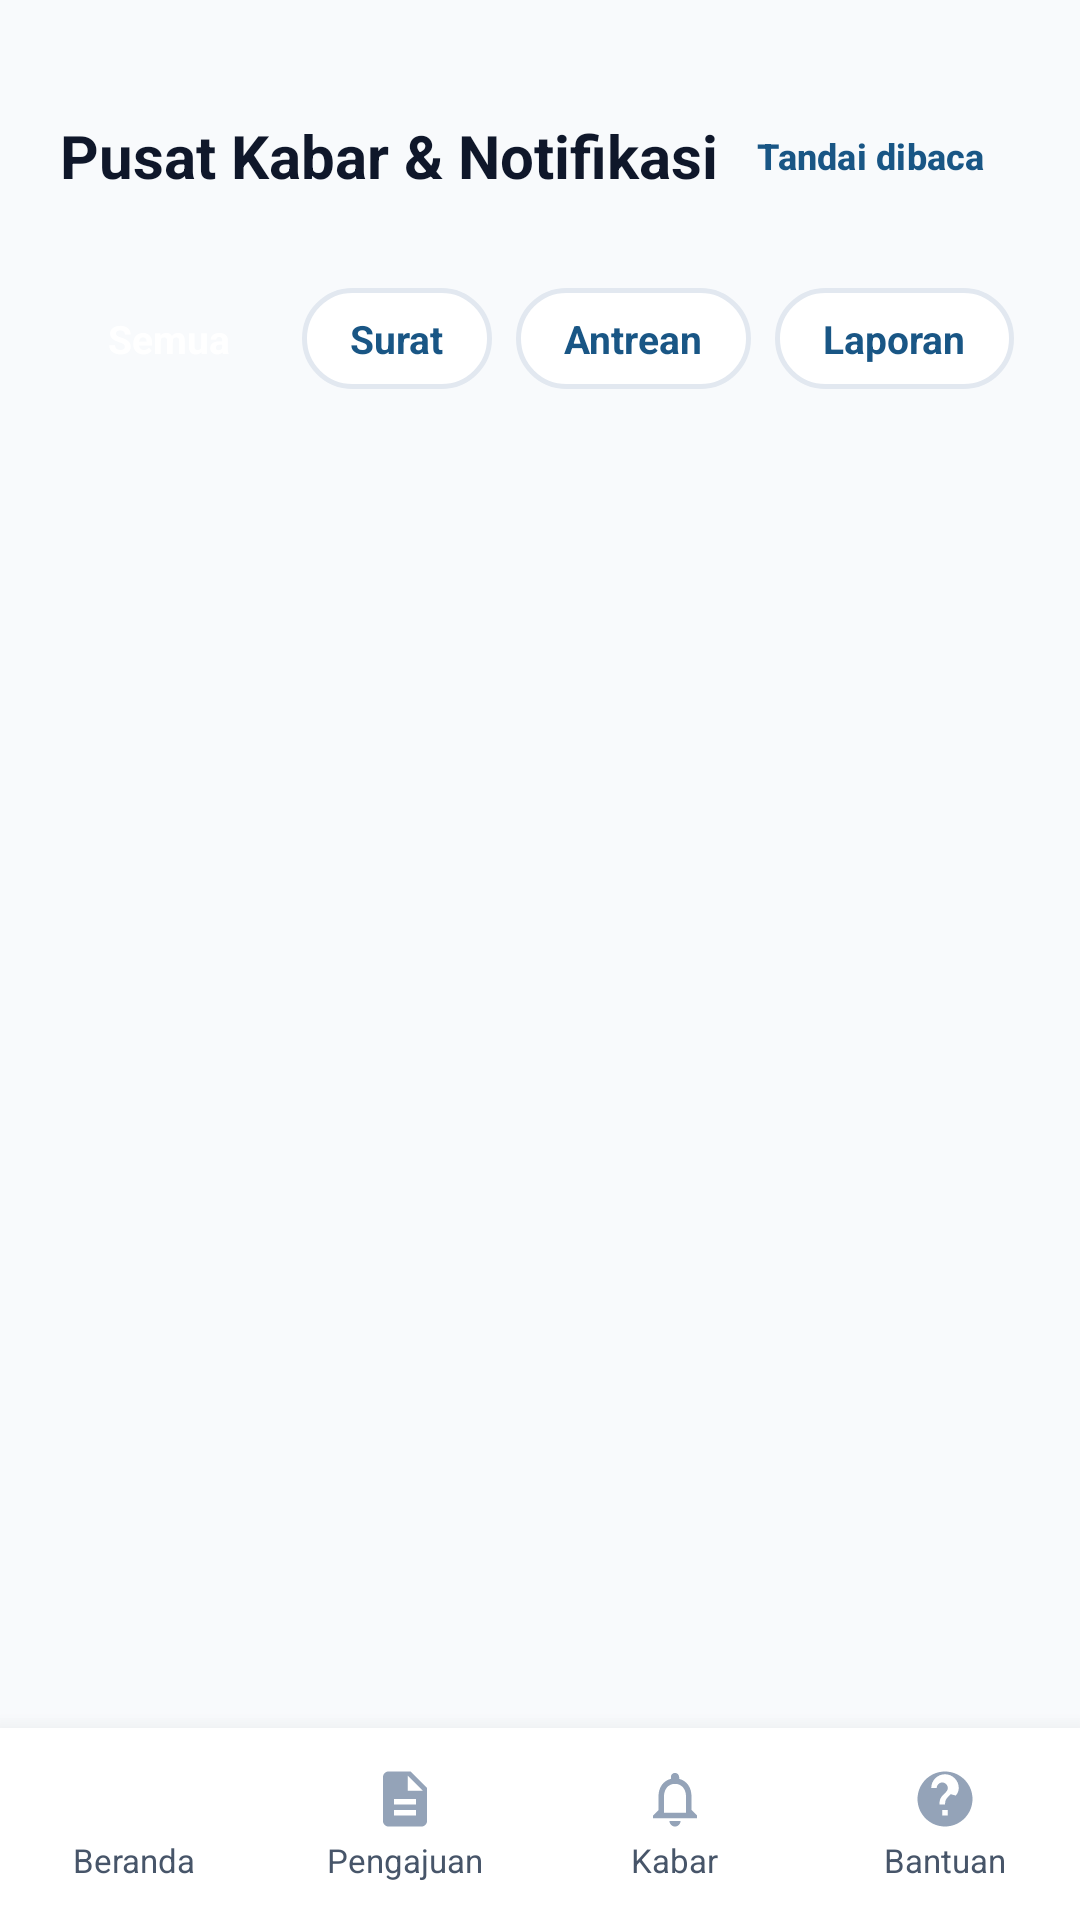

Icons on this 1080 × 1920 Android screen, each with the point to tap as (x=x, y=y):
document: (x=405, y=1799)
notifications: (x=675, y=1800)
